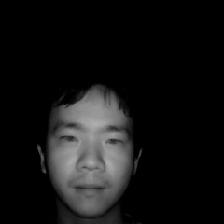normal: (34, 74, 149, 215)
